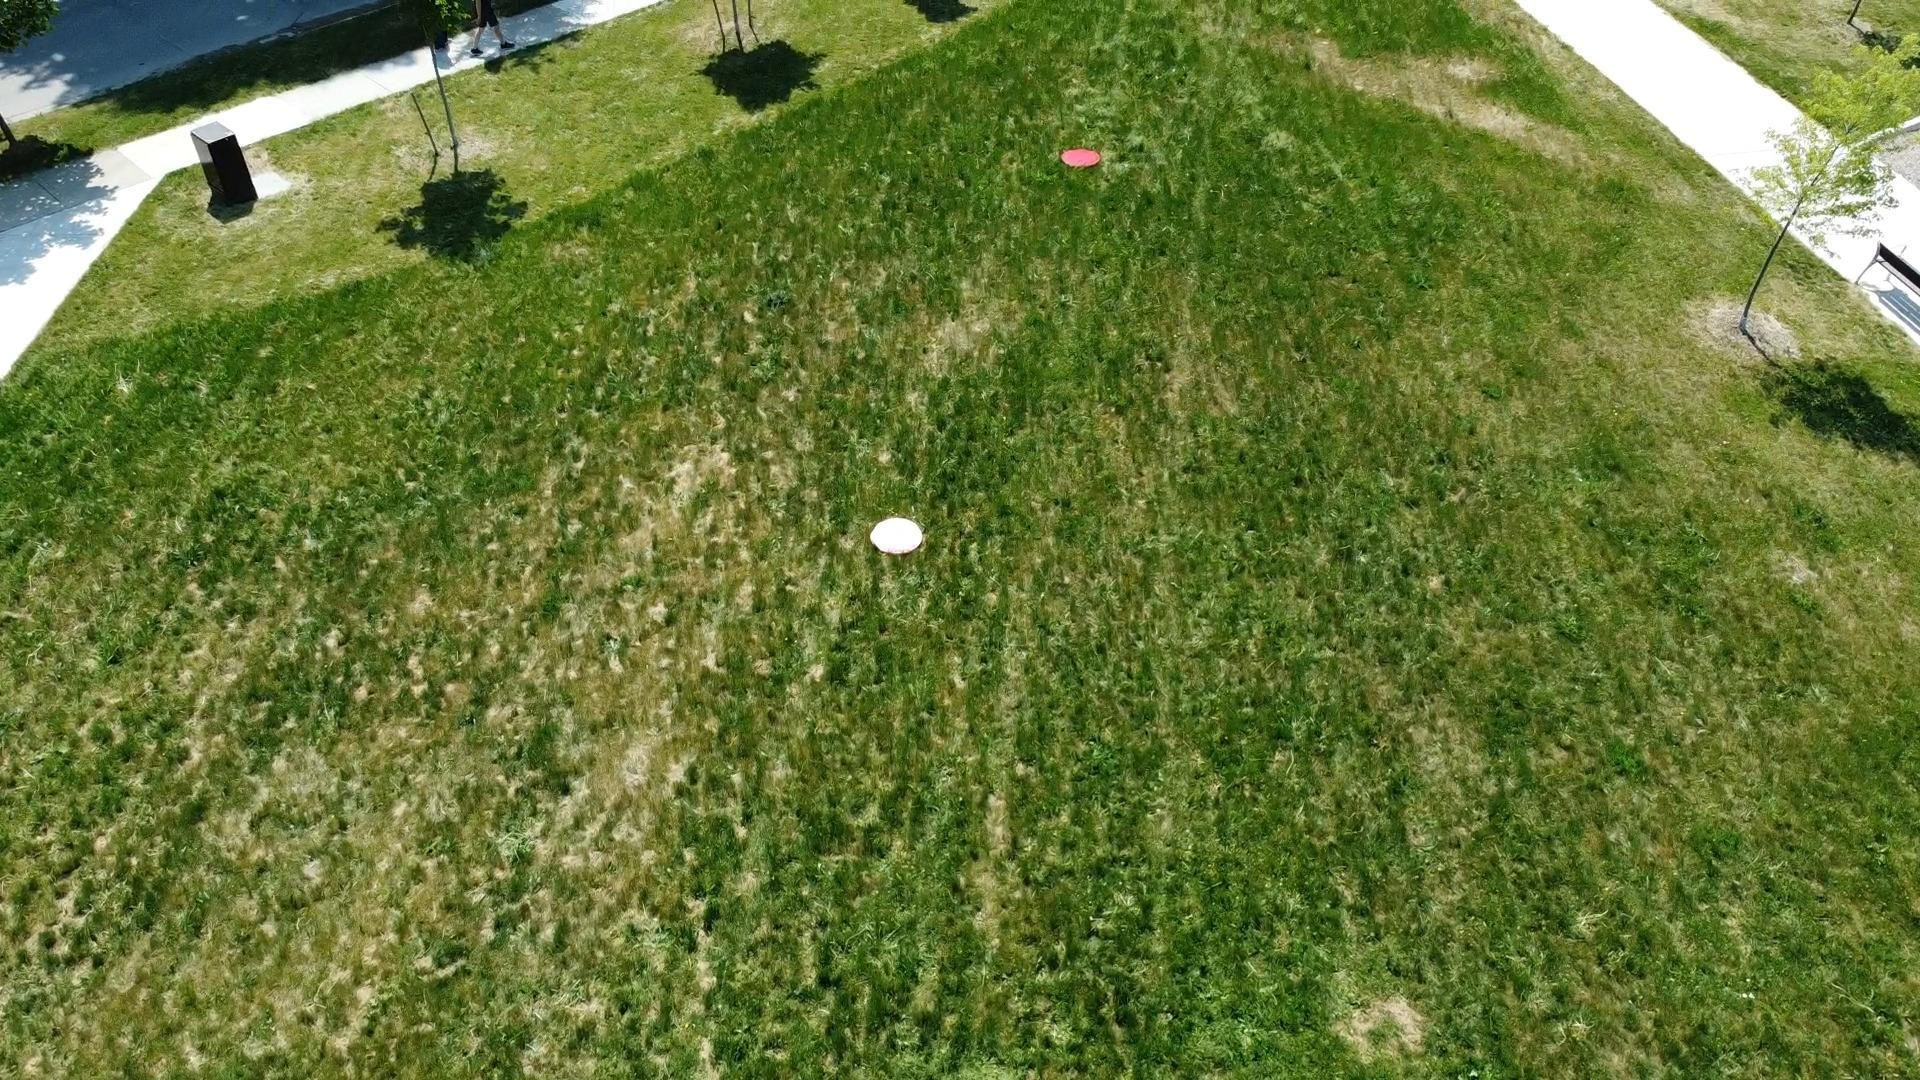Red: (1058, 146, 1102, 170)
Unknown: (868, 516, 926, 556)
